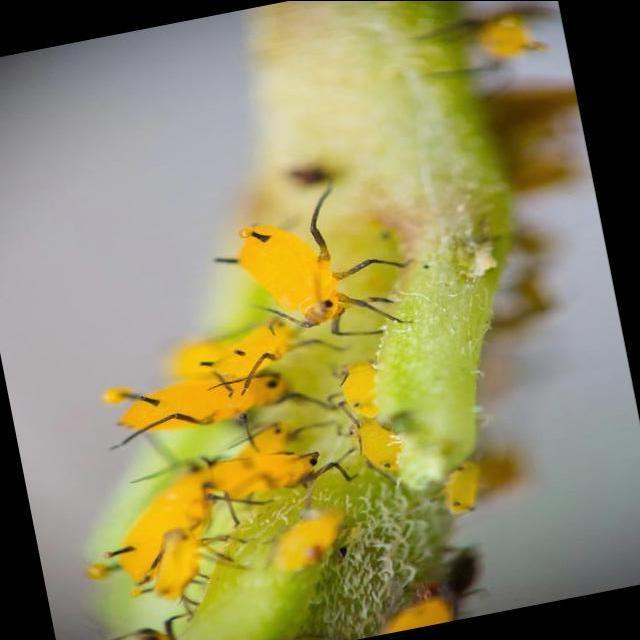aphid: (210, 170, 422, 368), (97, 352, 337, 443), (101, 454, 240, 602), (134, 517, 236, 624), (247, 488, 356, 578)
